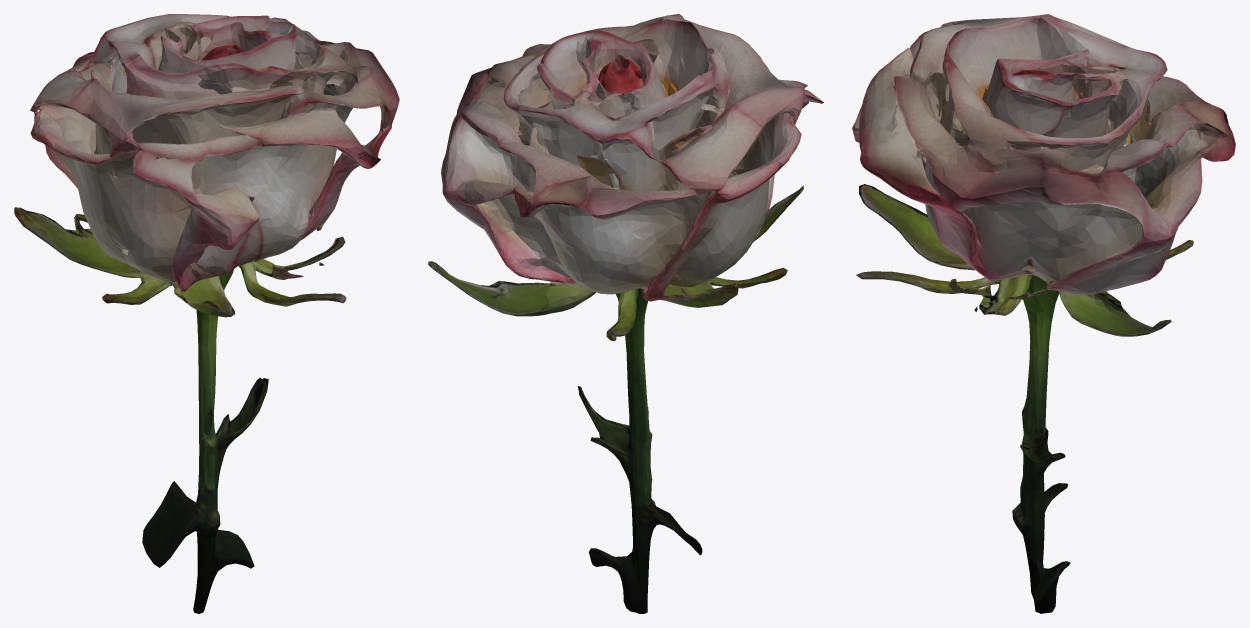
3 renders of one model, left to right at view 1: azimuth 30°, elevation 25°; view 2: azimuth 150°, elevation 25°; view 3: azimuth 270°, elevation 25°, orthographic. The views are drawn at different scales.
Parts seen in each view (by area): view 1: world; view 2: world; view 3: world.
Boxes of the visible parts, x1,y1,x2,y2 form: world: (14,14,399,613); world: (428,14,823,613); world: (852,14,1235,613).
Bounding box in the file's own units: 0.5695 × 0.9669 × 0.583.
Materials: 1 (1 with a texture image).
